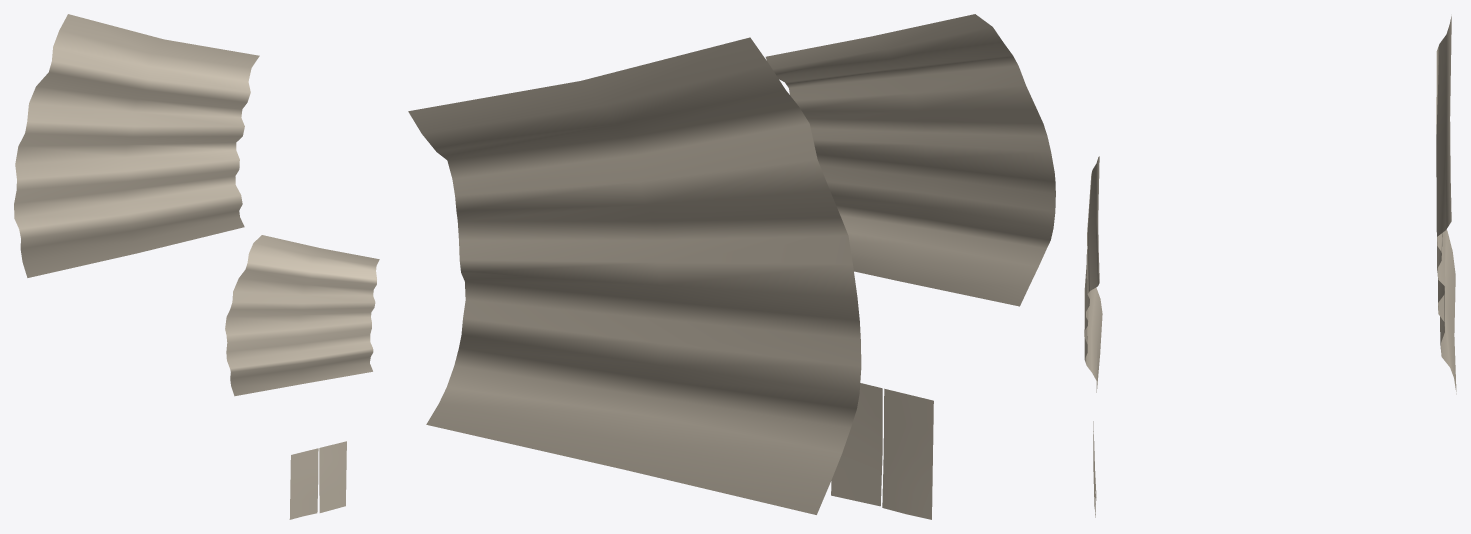
Rendered from cloth-base.glb.
3 views of the same model, side by side, from view 1: azimuth 30°, elevation 25°; view 2: azimuth 150°, elevation 25°; view 3: azimuth 270°, elevation 25° (orthographic). The views are drawn at different scales.
Bounding box in the file's own units: 3.23 × 4.98 × 3.79.
